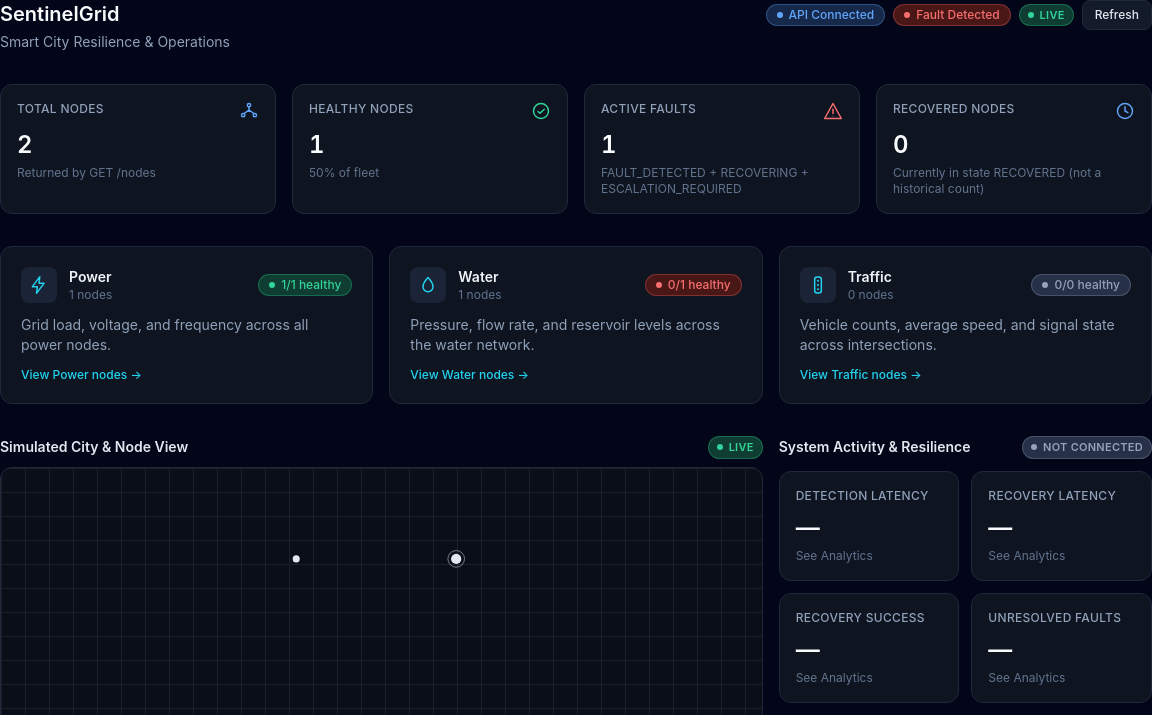
DashboardPage (Step 41 — live data) › the Refresh button re-issues the request
Expected: the text "Total Nodes" is shown, [17,101,104,117]
Click the button "Refresh" at (1117, 15), box [1082,0,1151,30]
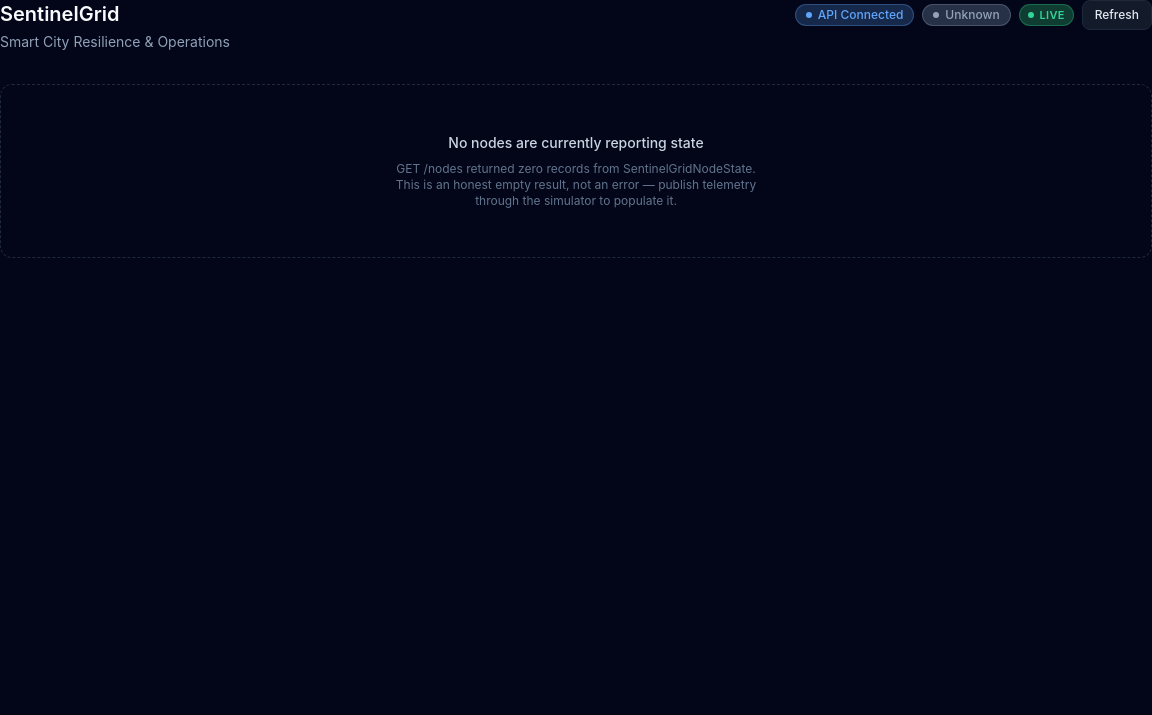
Expected: the text "No nodes are currently reporting state" is shown, [448,133,704,153]
